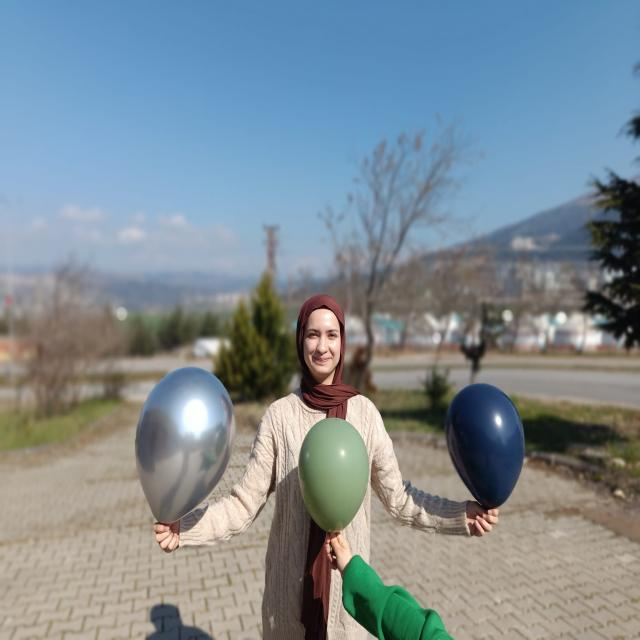balloon: (140, 367, 236, 518), (436, 382, 528, 505), (302, 408, 369, 526)
